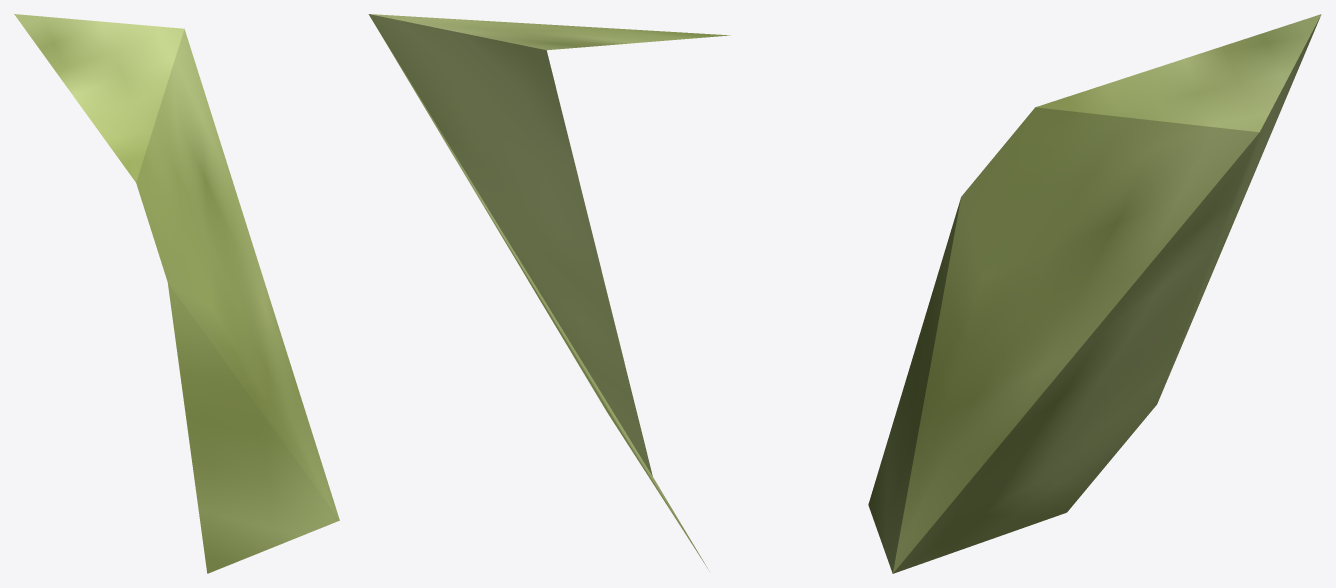
3 views of the same model, side by side, from view 1: azimuth 30°, elevation 25°; view 2: azimuth 150°, elevation 25°; view 3: azimuth 270°, elevation 25° (orthographic). The views are drawn at different scales.
Bounding box in the file's own units: 0.0345 × 0.0972 × 0.0801.
1 material, 1 textured.
